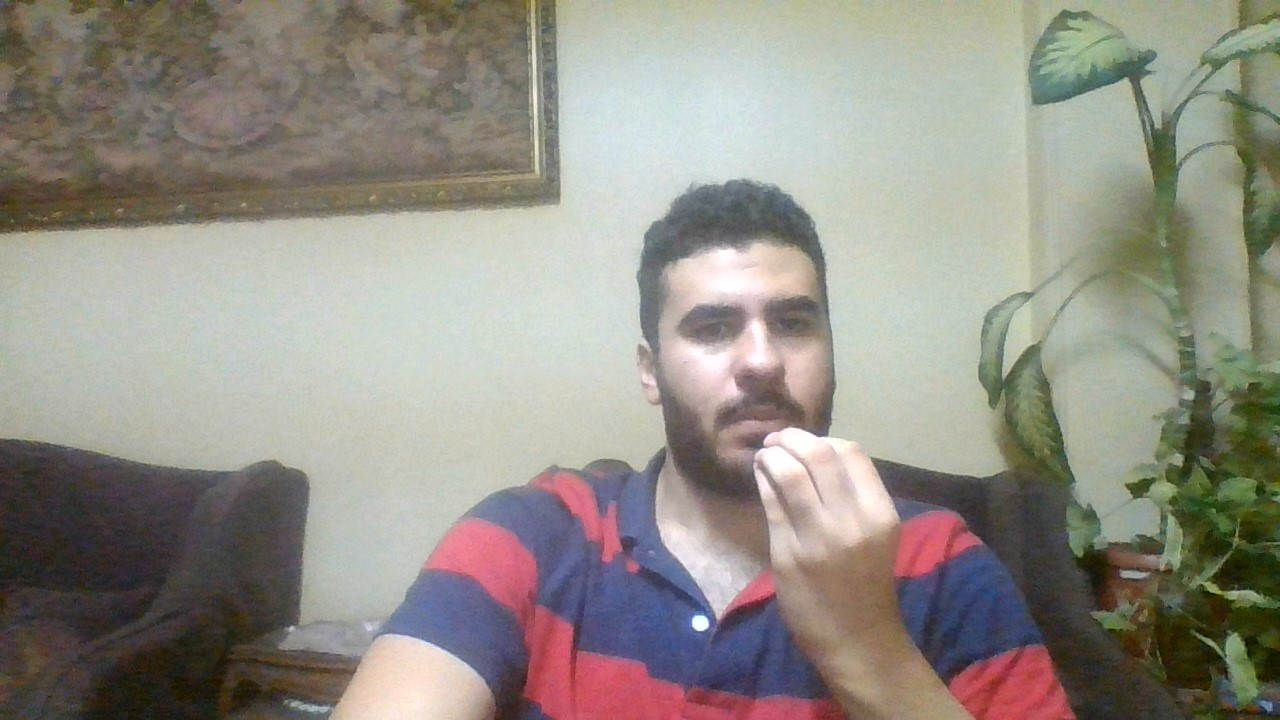eat: (741, 422, 939, 670)
